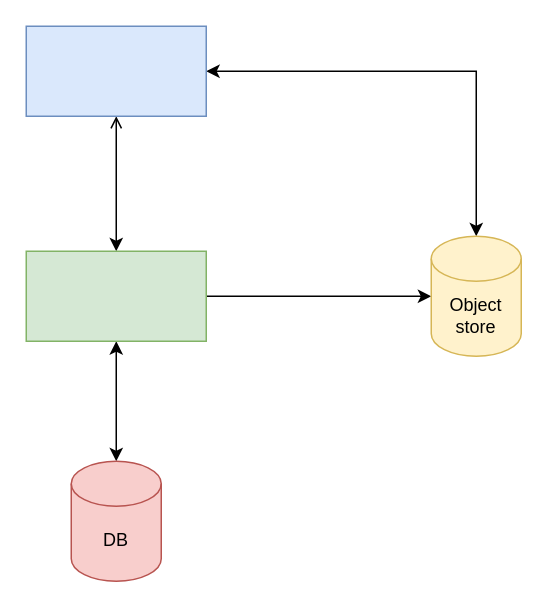
This 548x608 diagram has some shape labels left out. Here are the shapes that lost their labels. From the top down, the centre of each, then its label:
pixel 115 70: Client
pixel 115 295: App Server
